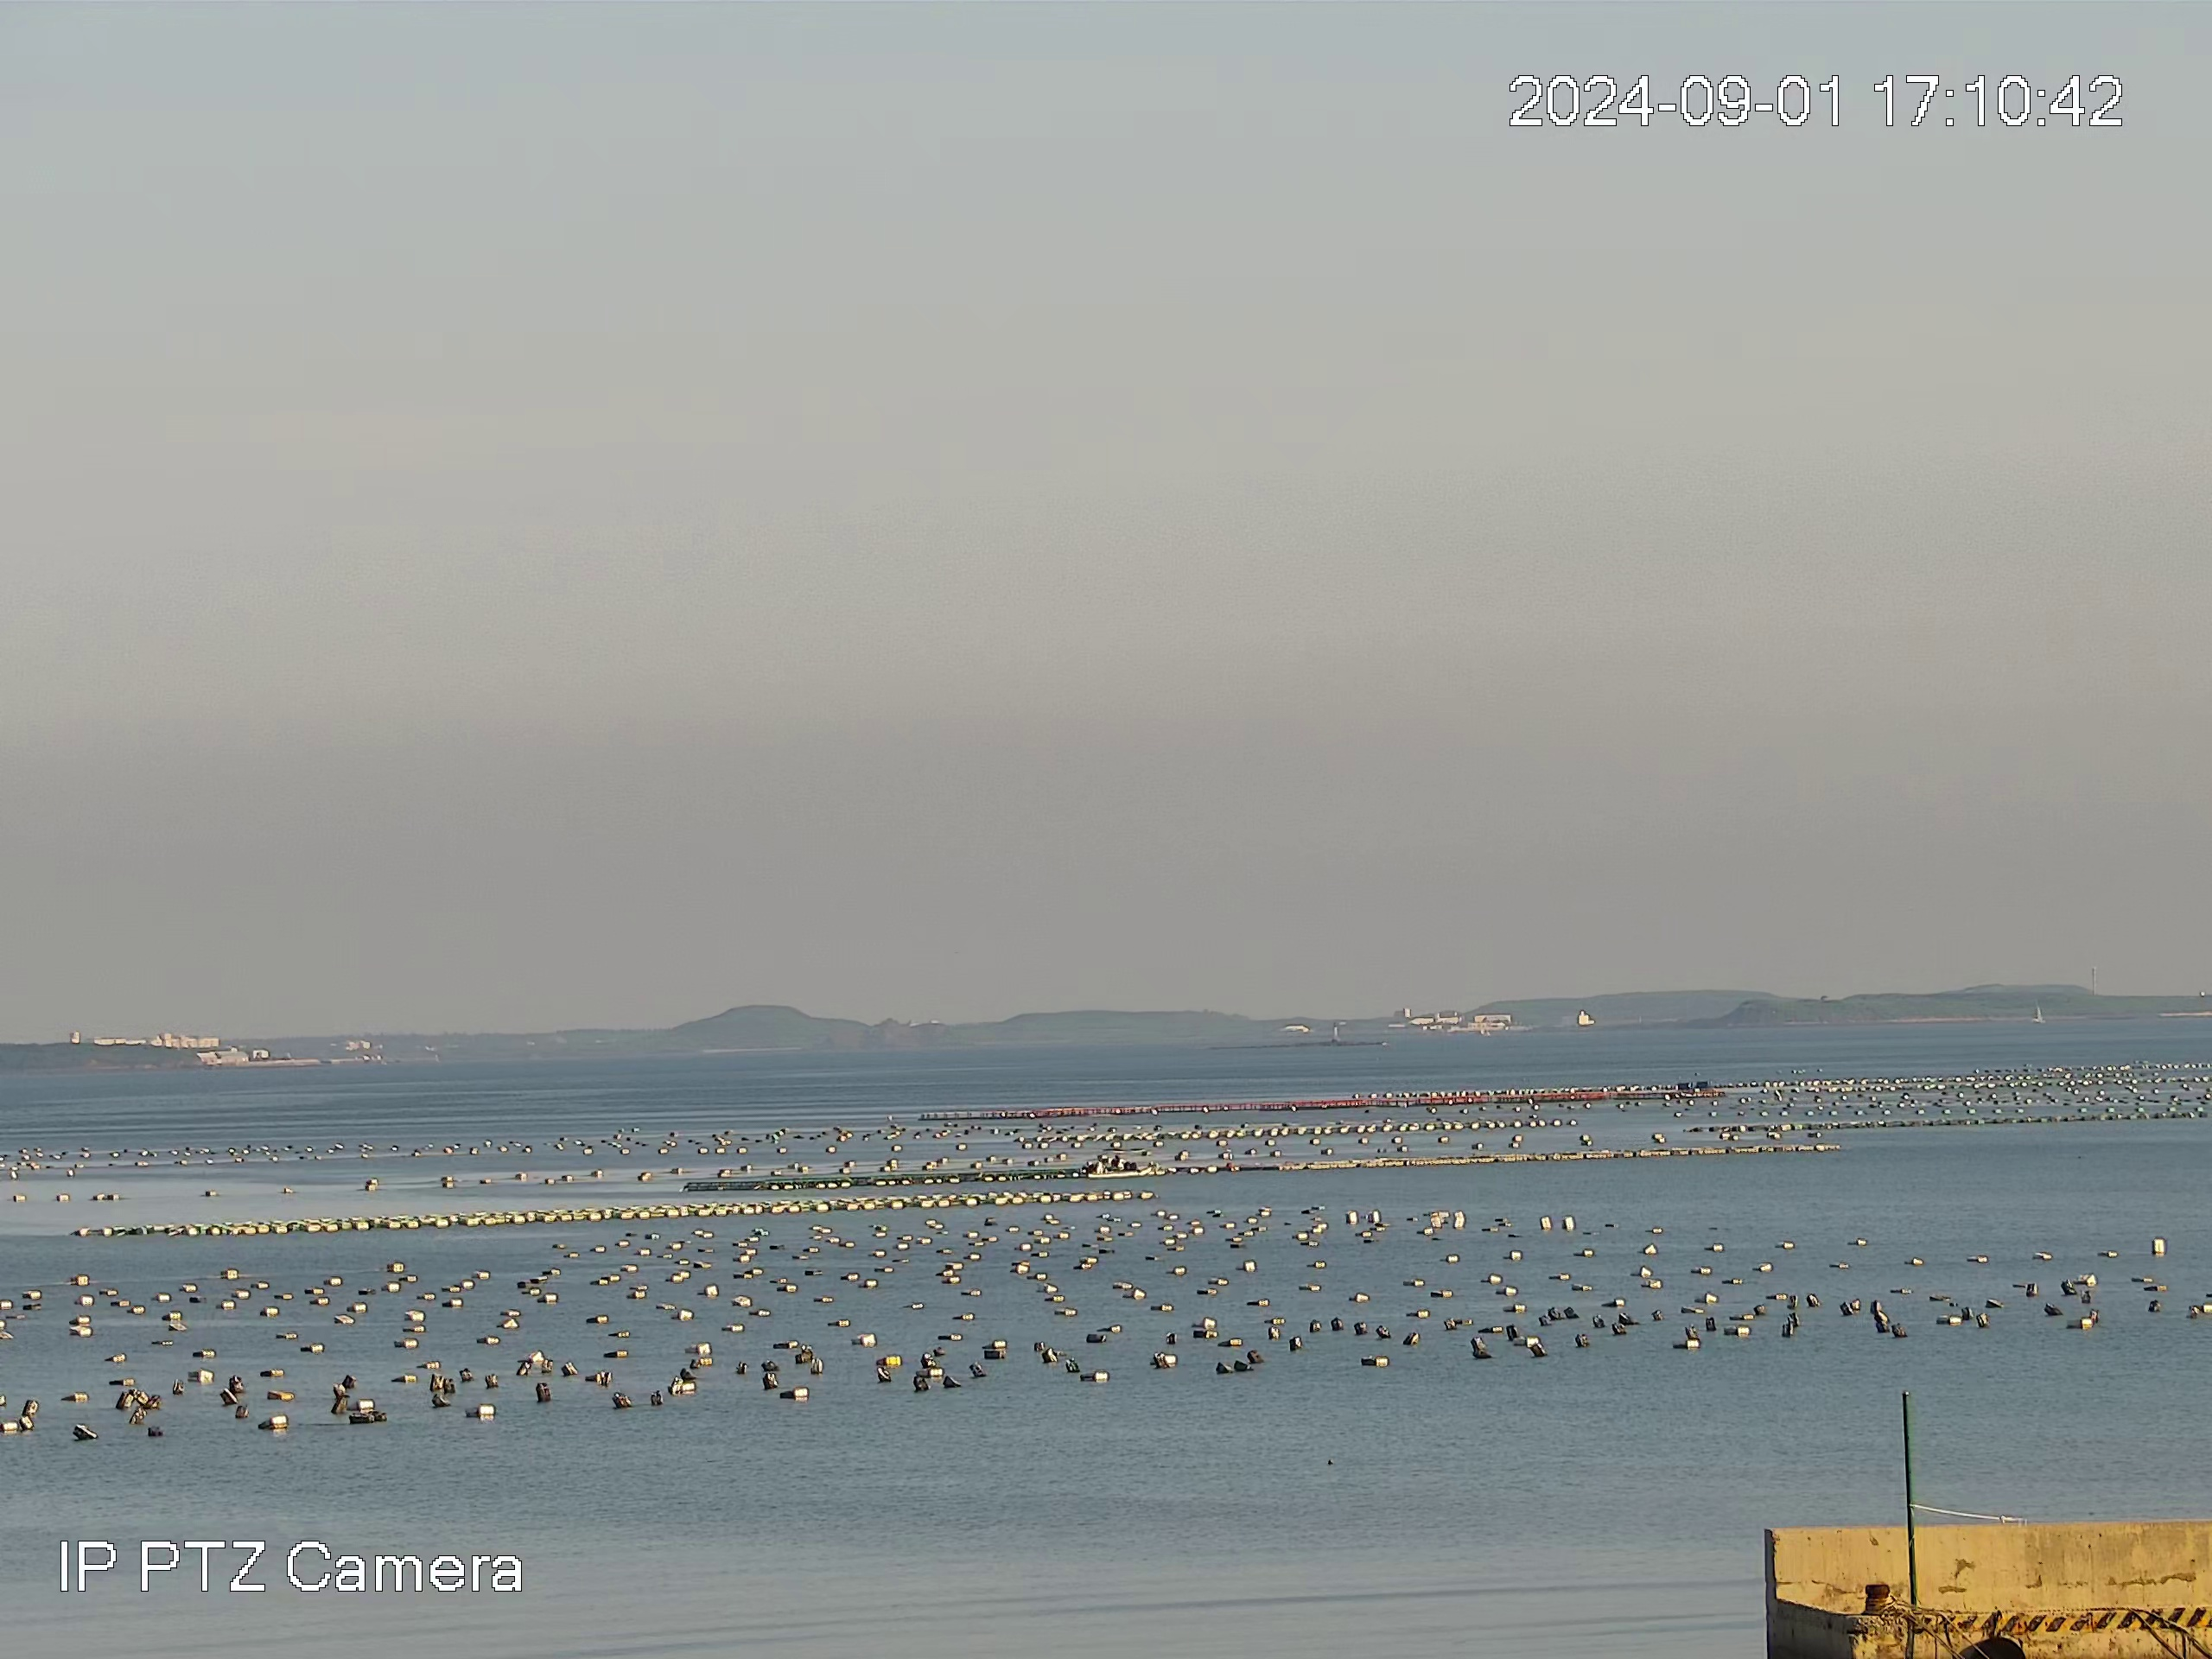boat: (1090, 1150, 1152, 1179)
